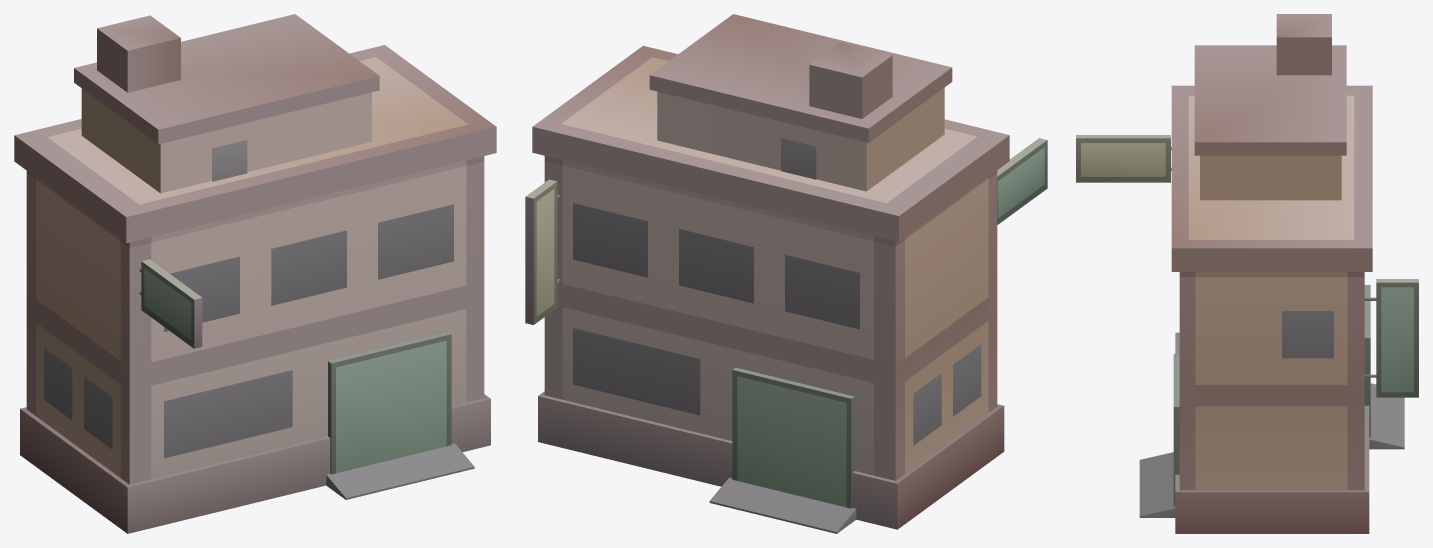
File: build_f.glb
The picture shows the model from 3 angles, left to right: view 1: azimuth 30°, elevation 25°; view 2: azimuth 150°, elevation 25°; view 3: azimuth 270°, elevation 25°; orthographic projection. The views are drawn at different scales.
Visible parts, largest first — view 1: build_f; view 2: build_f; view 3: build_f.
Boxes of the visible parts, left/top/right/bottom form: build_f: left=14, top=14, right=496, bottom=533; build_f: left=525, top=14, right=1047, bottom=533; build_f: left=1076, top=14, right=1418, bottom=533.
Size of the model in its own units: 2.08 by 2.3 by 1.85.
